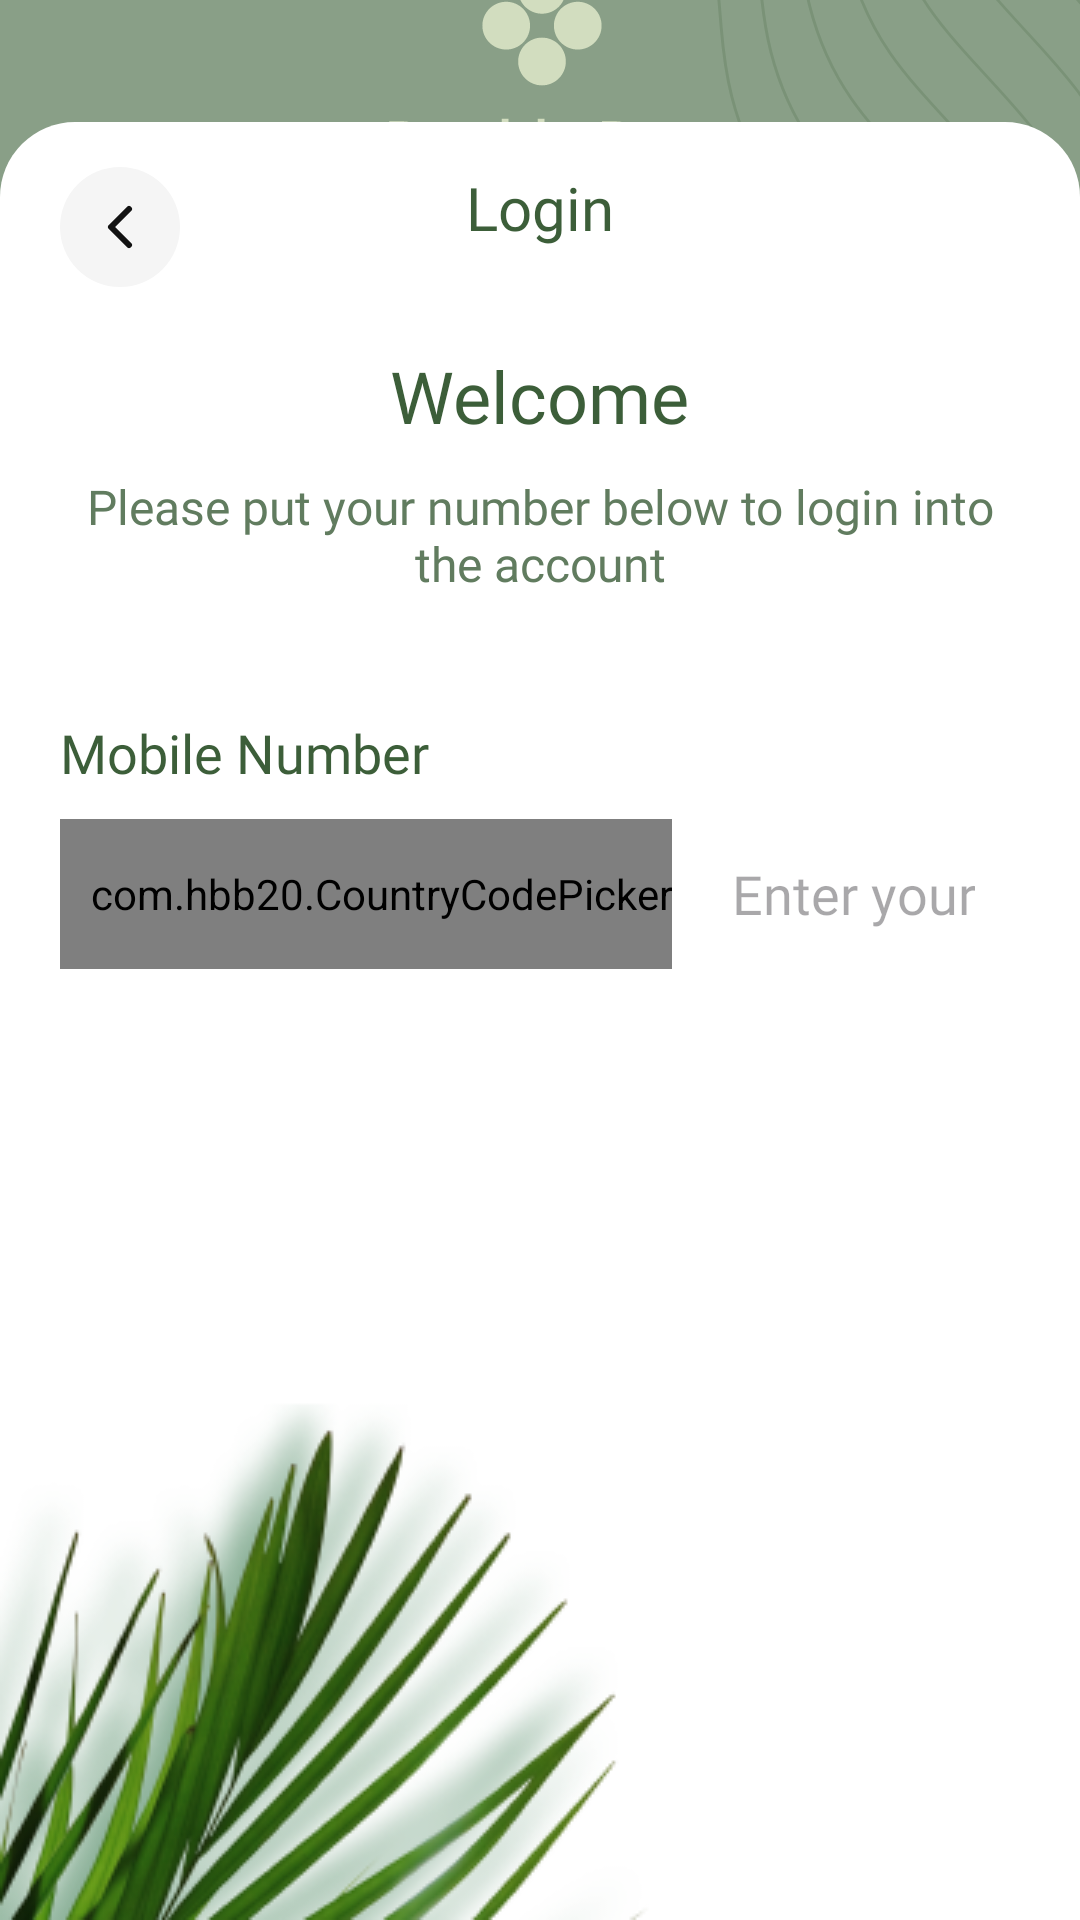

Screen size 1080px x 1920px. Icon name, then its center in pixels as point (x, y):
back arrow: point (120, 227)
